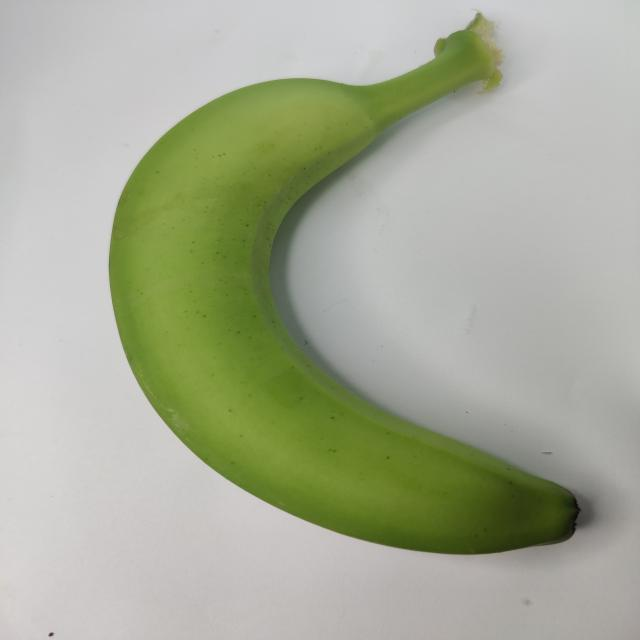Raw: (96, 0, 600, 569)
